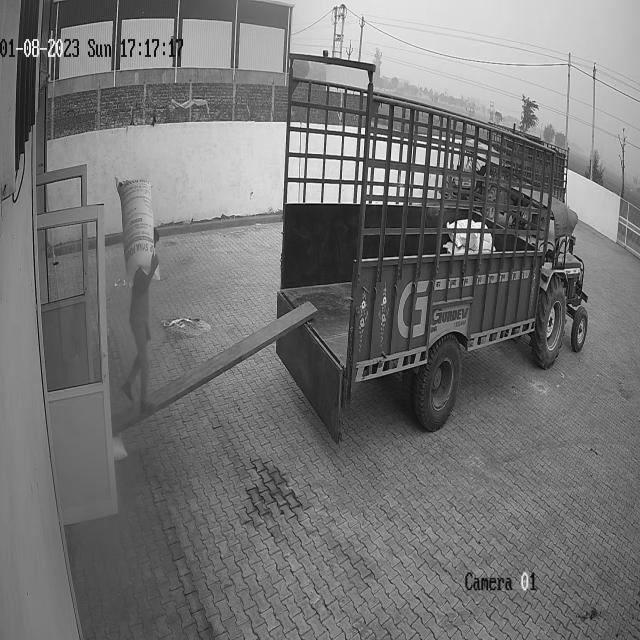sack: (115, 176, 161, 284)
